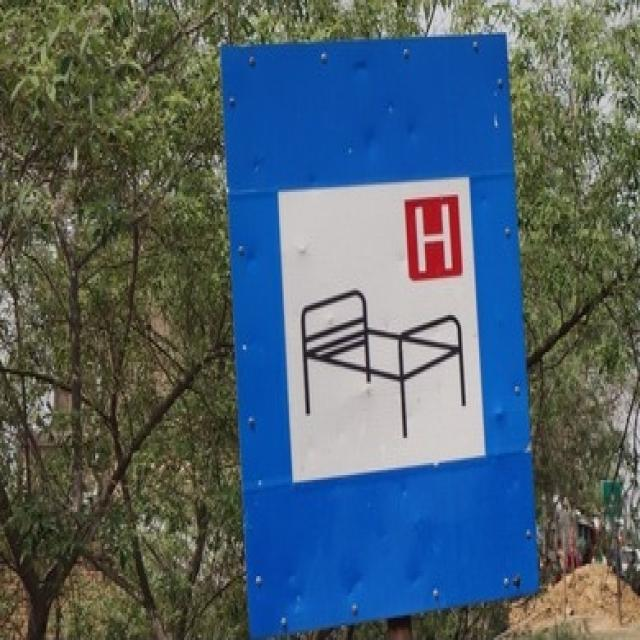hospital ahead: (258, 134, 507, 506)
